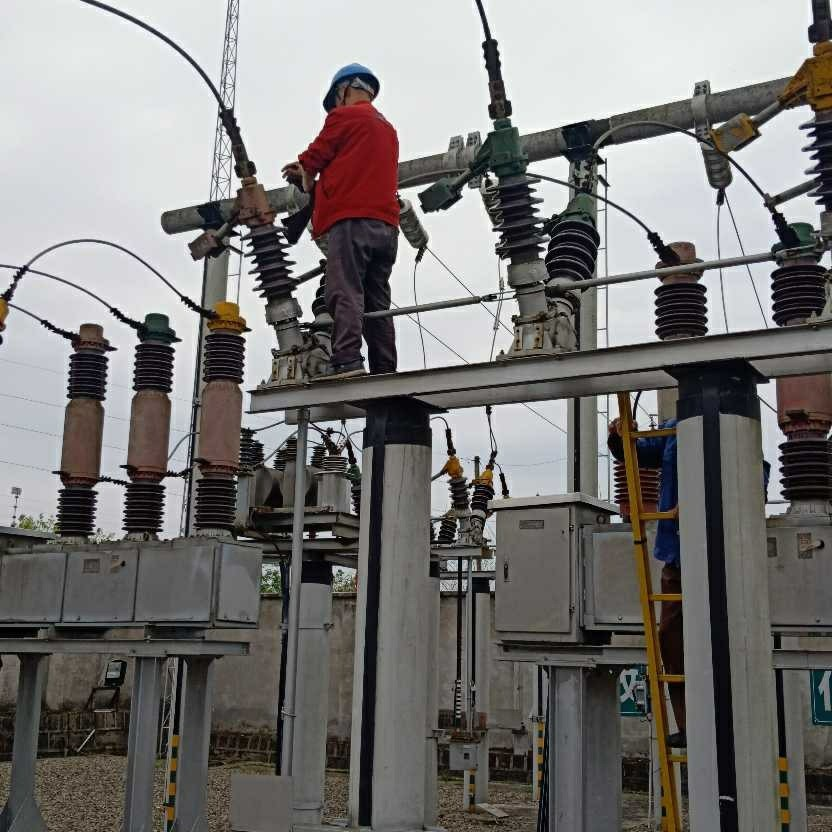hat: (319, 55, 384, 113)
